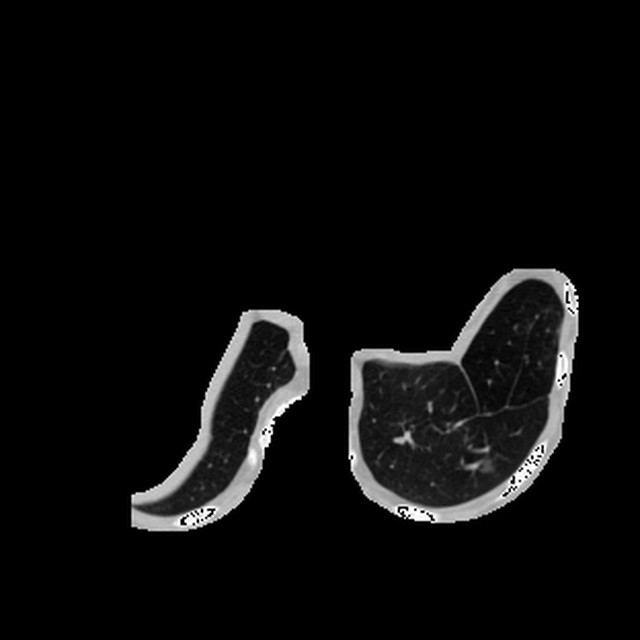PN: (482, 459, 494, 472)
